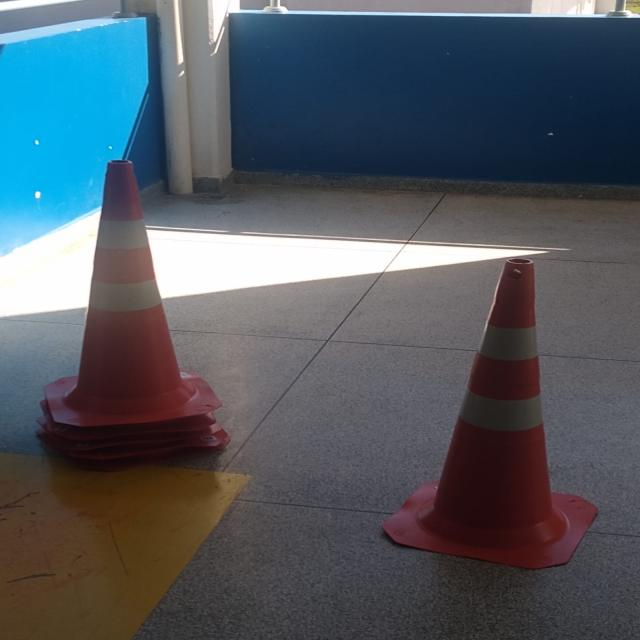cone: (377, 254, 614, 568), (25, 153, 242, 454)
